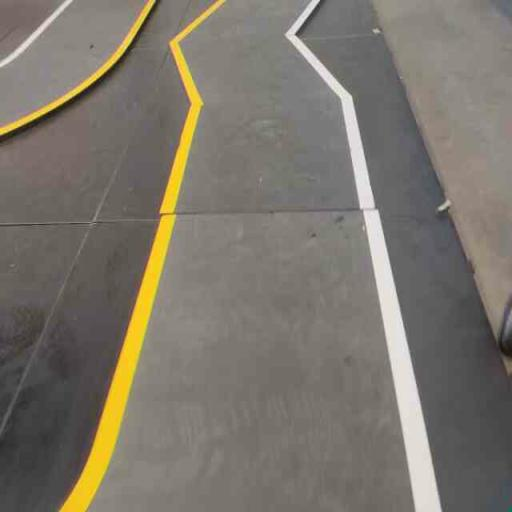straight: (100, 210, 430, 416)
